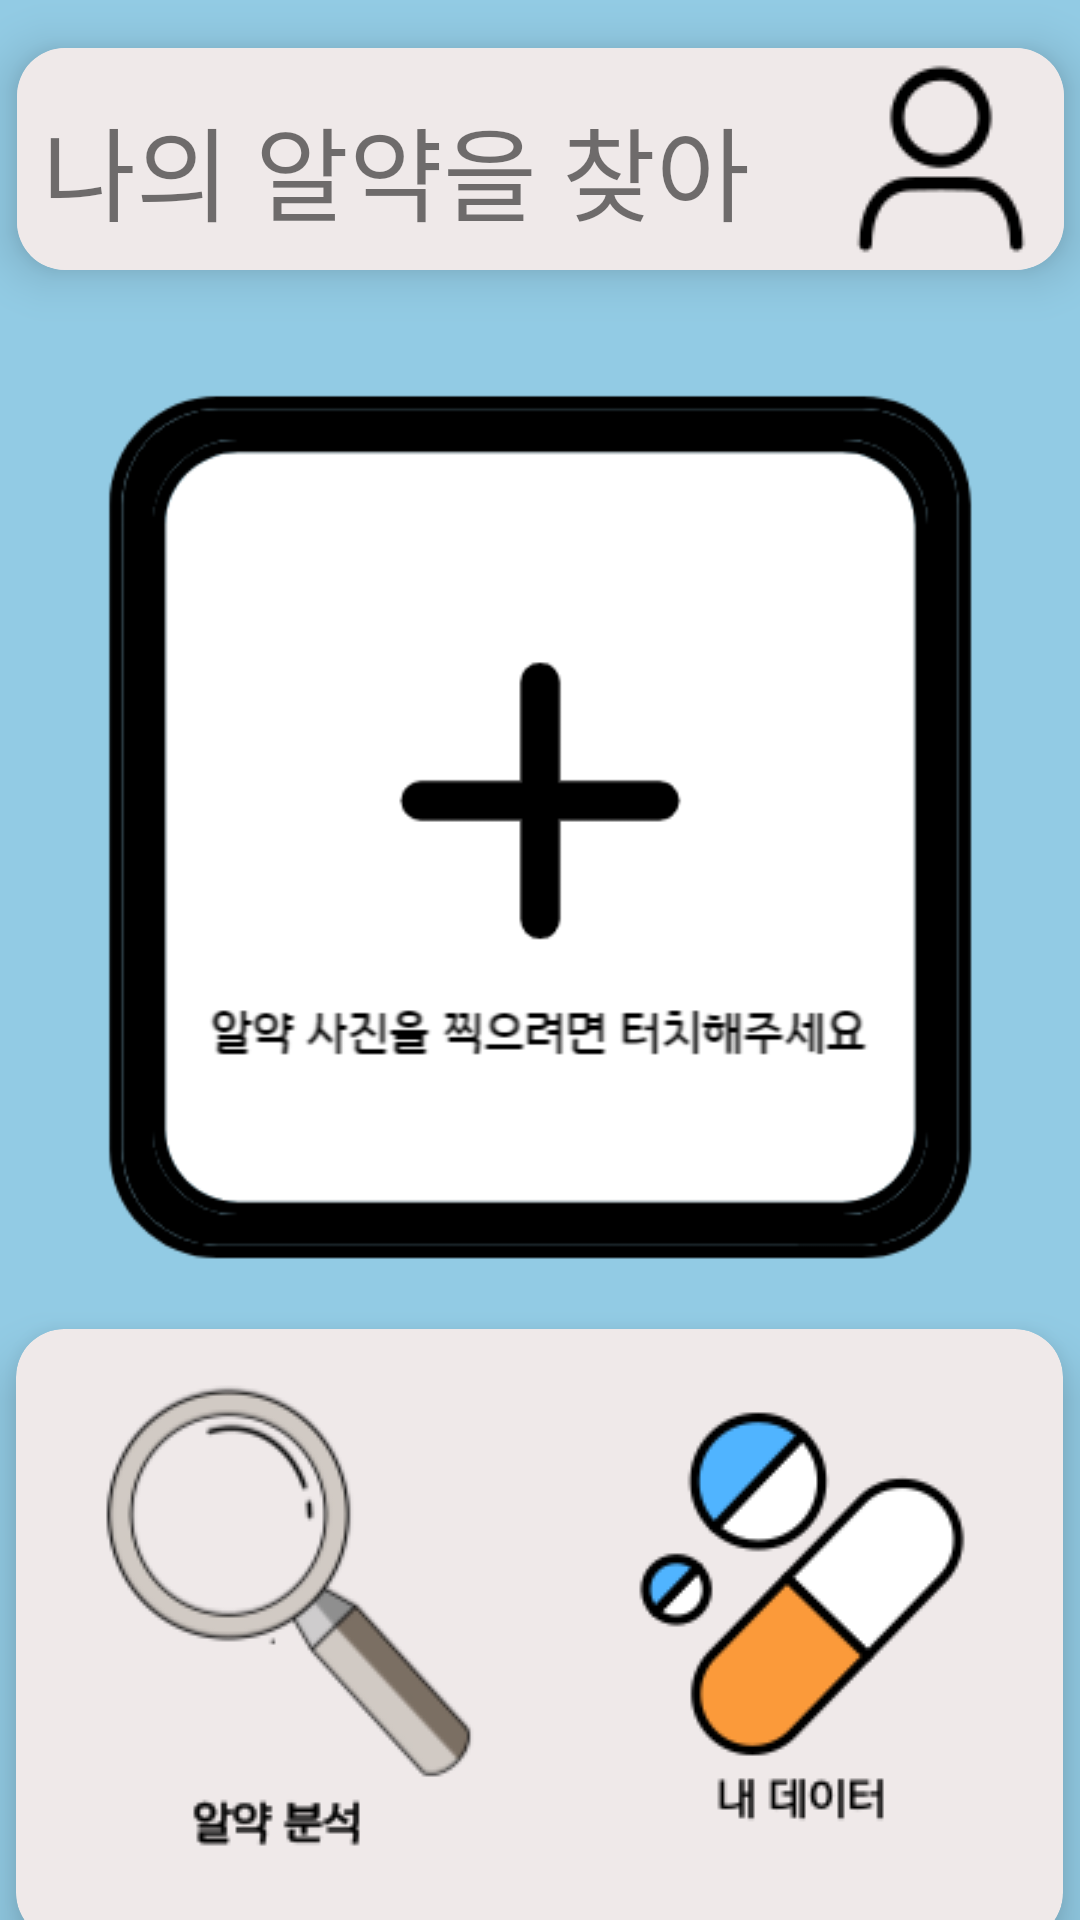

Icon bounding boxes for this 1080px x 1920px phone screenshot, format bbox(x1, y1, x2, y2):
프로필 수정: bbox(818, 48, 1064, 270)
